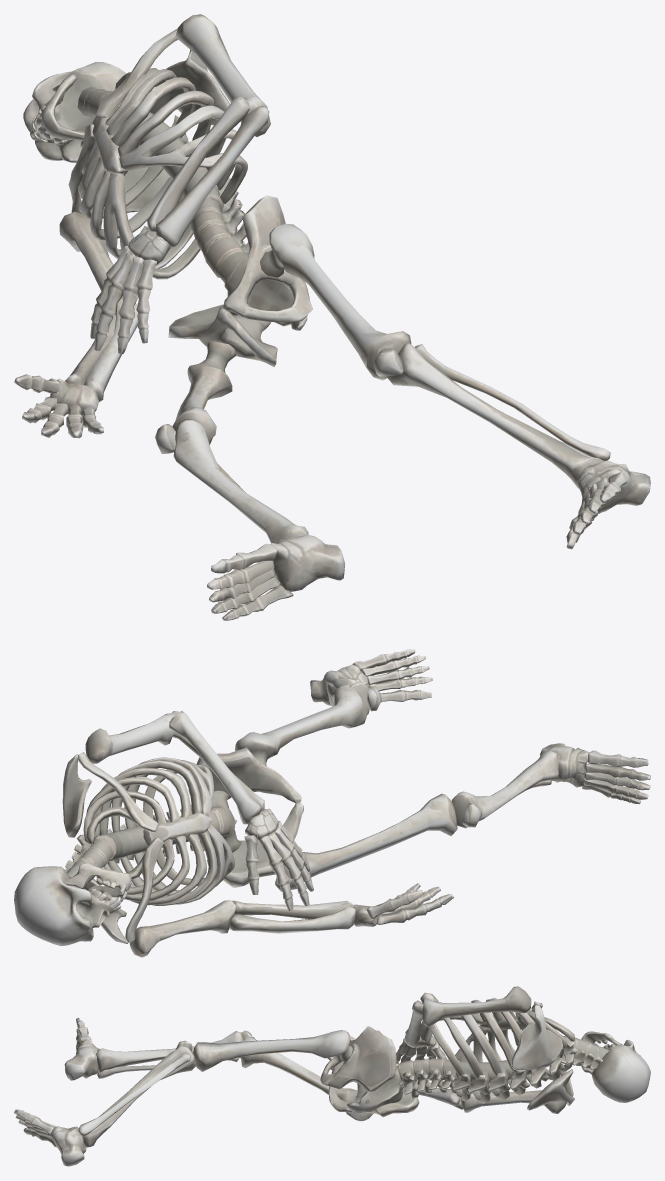
3 renders of one model, top to bottom at view 1: azimuth 30°, elevation 25°; view 2: azimuth 150°, elevation 25°; view 3: azimuth 270°, elevation 25°, orthographic. The views are drawn at different scales.
Parts seen in each view (by area): view 1: SM_FullBody_04_LOD0; view 2: SM_FullBody_04_LOD0; view 3: SM_FullBody_04_LOD0.
Part boxes in pixels (x1,y1,x2,y2): SM_FullBody_04_LOD0: (14, 14, 650, 620); SM_FullBody_04_LOD0: (14, 649, 650, 957); SM_FullBody_04_LOD0: (14, 986, 650, 1166).
Size of the model in its own units: 0.902 by 0.5369 by 1.83.
1 material, 1 textured.
